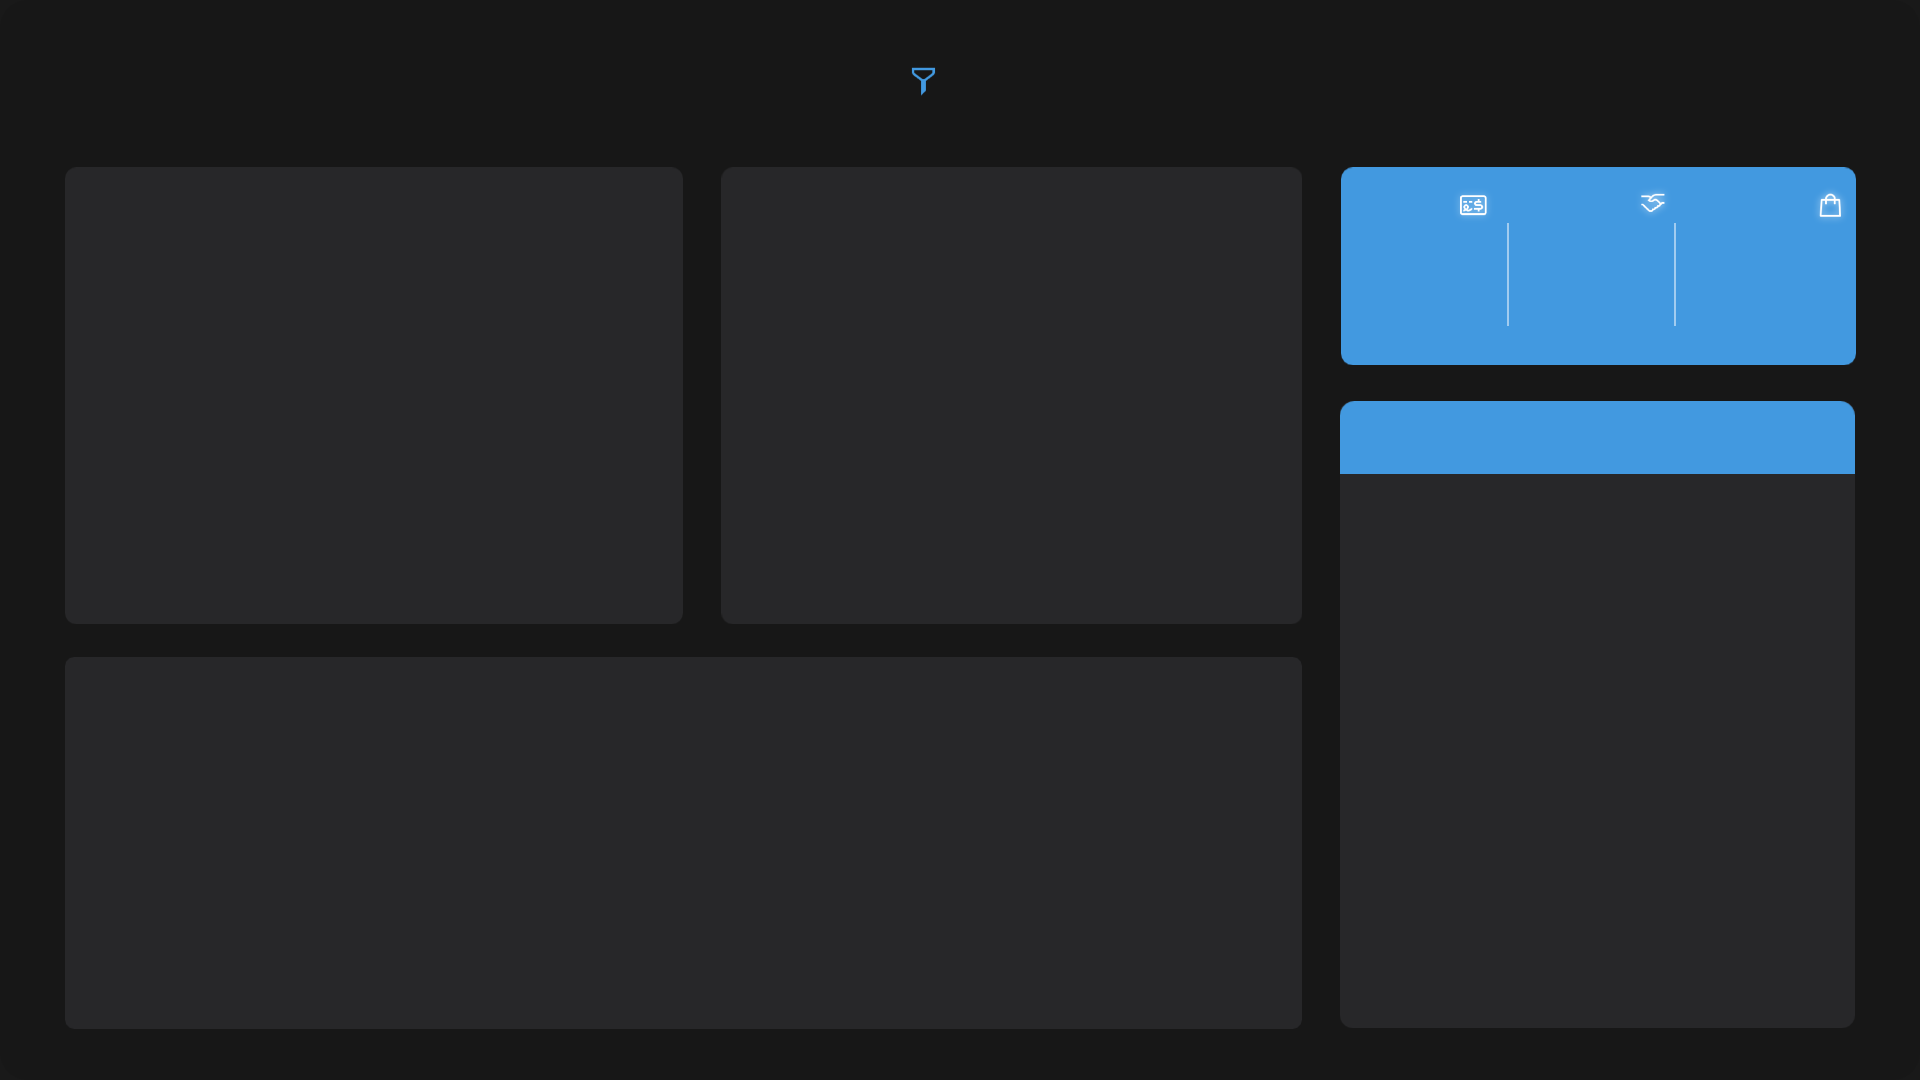

Layout of this report page (visuals, bound fields, positions):
{"tool":"powerbi","page":{"name":"Página 1","canvas":[1280,720],"ordinal":0},"visuals":[{"type":"card","fields":{"Values":["Sum(registroVendas.Total de Vendas)"]},"box":[892.4,150.8,112.2,34.1],"z":0},{"type":"card","fields":{"Values":["Avg(registroVendas.Total de Vendas)"]},"box":[1115.9,150.8,120.3,34.1],"z":1000},{"type":"clusteredColumnChart","title":"Faturamento por período","fields":{"Y":["Sum(registroVendas.Total de Vendas)"],"Category":["registroVendas.Data Pedido.Variation.Hierarquia de datas.Mês"]},"box":[50.3,444.4,817,237.9],"z":2000},{"type":"pieChart","title":"Formas de Pagamento","fields":{"Y":["Sum(registroVendas.Total de Vendas)"],"Category":["Vendas.Pagamento"]},"box":[490.2,123.9,366.3,289.1],"z":3000},{"type":"columnChart","title":" Total de Vendas por Nome Loja","fields":{"Category":["Lojas.Nome Loja"],"Y":["Sum(Vendas.Total de Vendas)"]},"box":[50.3,123.9,405.8,289.1],"z":4000},{"type":"tableEx","fields":{"Values":["Vendas.Produto","Sum(Vendas.Total de Vendas)","Divide(Sum(Vendas.Total de Vendas), ScopedEval(Sum(Vendas.Total de Vendas), []))"]},"box":[893.3,316,342.9,255.9],"z":5000},{"type":"slicer","fields":{"Values":["Vendas.Produto"]},"box":[660,36.8,600.6,27.8],"z":6000},{"type":"textbox","title":"Gestão de vendas / Dashboard","box":[50,27,511.7,49.4],"z":7000},{"type":"textbox","title":"Acompanhamento das vendas","box":[50.3,62,238.8,18],"z":8000},{"type":"card","fields":{"Values":["Vendas.Comissão"]},"box":[1004.6,150.8,111.3,34.1],"z":9000},{"type":"textbox","title":"Faturamento","box":[892.4,189.4,112.2,18.9],"z":10000},{"type":"textbox","title":"Comissão","box":[1003.7,189.4,112.2,18.9],"z":11000},{"type":"textbox","title":"Ticket Médio","box":[1115.9,189.4,120.3,18.9],"z":12000},{"type":"textbox","title":"em reais","box":[891.5,202,112.2,12.6],"z":13000},{"type":"textbox","title":"em reais","box":[1003.7,202,112.2,12.6],"z":14000},{"type":"textbox","title":"em reais","box":[1115.9,202,112.2,12.6],"z":15000},{"type":"textbox","title":"Filtros","box":[622,38.6,61.9,25.1],"z":16000},{"type":"textbox","title":"Análise por produto","box":[893.3,274,342.9,35],"z":17000}]}

Visuals, with their boxes in screenshot pixels (x1, y1, x2, y2), scaled from the page's 1280x720 canvas onto the 1920x1080 screenshot:
card - Sum(registroVendas.Total de Vendas): pyautogui.locateOnScreen(1339, 226, 1507, 277)
card - Avg(registroVendas.Total de Vendas): pyautogui.locateOnScreen(1674, 226, 1854, 277)
"Faturamento por período" clusteredColumnChart: pyautogui.locateOnScreen(75, 667, 1301, 1023)
"Formas de Pagamento" pieChart: pyautogui.locateOnScreen(735, 186, 1285, 620)
" Total de Vendas por Nome Loja" columnChart: pyautogui.locateOnScreen(75, 186, 684, 620)
tableEx - Vendas.Produto x Sum(Vendas.Total de Vendas): pyautogui.locateOnScreen(1340, 474, 1854, 858)
slicer - Vendas.Produto: pyautogui.locateOnScreen(990, 55, 1891, 97)
"Gestão de vendas / Dashboard" textbox: pyautogui.locateOnScreen(75, 40, 843, 115)
"Acompanhamento das vendas" textbox: pyautogui.locateOnScreen(75, 93, 434, 120)
card - Vendas.Comissão: pyautogui.locateOnScreen(1507, 226, 1674, 277)
"Faturamento" textbox: pyautogui.locateOnScreen(1339, 284, 1507, 312)
"Comissão" textbox: pyautogui.locateOnScreen(1506, 284, 1674, 312)
"Ticket Médio" textbox: pyautogui.locateOnScreen(1674, 284, 1854, 312)
"em reais" textbox: pyautogui.locateOnScreen(1337, 303, 1506, 322)
"em reais" textbox: pyautogui.locateOnScreen(1506, 303, 1674, 322)
"em reais" textbox: pyautogui.locateOnScreen(1674, 303, 1842, 322)
"Filtros" textbox: pyautogui.locateOnScreen(933, 58, 1026, 96)
"Análise por produto" textbox: pyautogui.locateOnScreen(1340, 411, 1854, 464)
